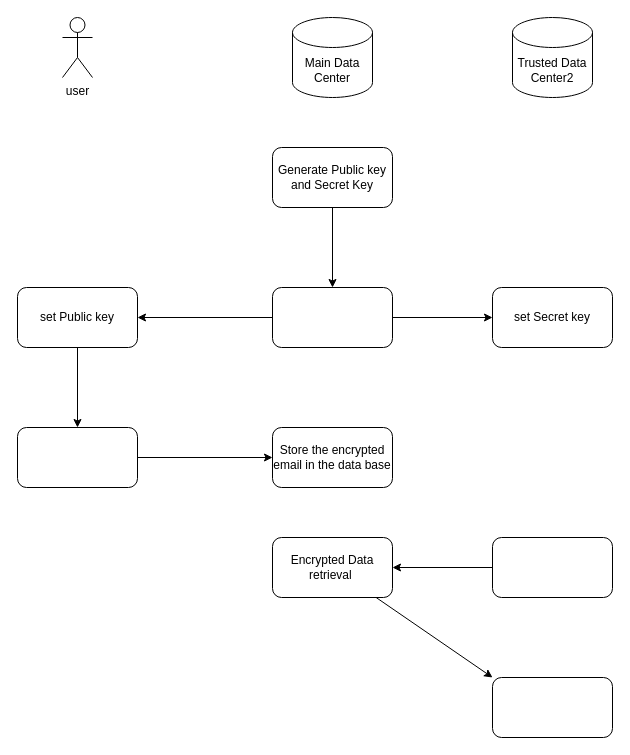
Some shapes in this 630 by 755 pixel diagram are drawn without their labels. Here are the shapes that lost their labels. From the top down, the box of each, then its label:
(272, 286, 392, 348): Give the Secret key to trusted data center and give the public key to every one
(16, 426, 138, 488): Encrypt Email by RSA using public key
(492, 536, 612, 598): Request for the sensitive email data
(492, 676, 612, 738): Decrypt by RSA using private key
